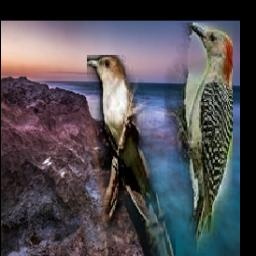Cuckoo: (88, 55, 177, 256)
Woodpecker: (165, 24, 234, 254)
